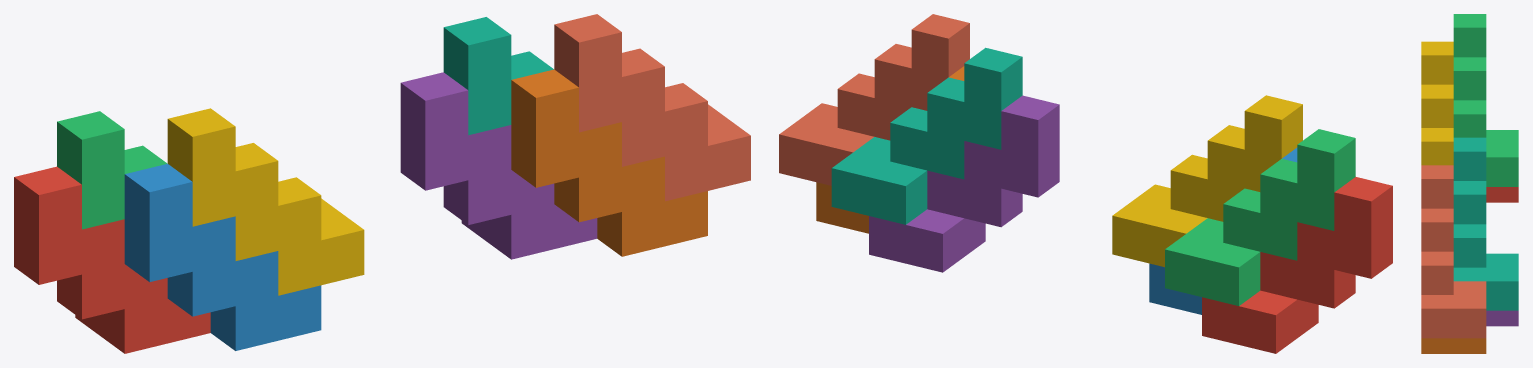
The model's file is tiling.obj.
3 renders of one model, left to right at view 1: azimuth 30°, elevation 25°; view 2: azimuth 150°, elevation 25°; view 3: azimuth 270°, elevation 25°, orthographic. The views are drawn at different scales.
Parts seen in each view (by area): view 1: copy_1_domain_2, copy_1_domain_6, copy_1_domain_4, copy_1_domain_8, copy_1_domain_5, copy_1_domain_1, copy_1_domain_7, copy_1_domain_3; view 2: copy_1_domain_7, copy_1_domain_3, copy_1_domain_1, copy_1_domain_5, copy_1_domain_8, copy_1_domain_4, copy_1_domain_6, copy_1_domain_2; view 3: copy_1_domain_8, copy_1_domain_7, copy_1_domain_3, copy_1_domain_4, copy_1_domain_6, copy_1_domain_5, copy_1_domain_1.
Boxes of the visible parts, box(x1,y1,x2,y2) form: copy_1_domain_2: box(124, 163, 321, 350); copy_1_domain_6: box(511, 69, 707, 256); copy_1_domain_4: box(167, 108, 364, 295); copy_1_domain_8: box(554, 14, 750, 201); copy_1_domain_5: box(400, 72, 597, 259); copy_1_domain_1: box(14, 166, 210, 353); copy_1_domain_7: box(443, 17, 553, 135); copy_1_domain_3: box(57, 111, 167, 229); copy_1_domain_7: box(831, 47, 1022, 224); copy_1_domain_3: box(1165, 129, 1355, 305); copy_1_domain_1: box(1202, 177, 1392, 353); copy_1_domain_5: box(869, 95, 1059, 272); copy_1_domain_8: box(779, 14, 969, 185); copy_1_domain_4: box(1112, 95, 1302, 267); copy_1_domain_6: box(816, 66, 964, 233); copy_1_domain_2: box(1149, 147, 1297, 314); copy_1_domain_8: box(1421, 165, 1486, 338); copy_1_domain_7: box(1453, 137, 1518, 310); copy_1_domain_3: box(1453, 14, 1518, 186); copy_1_domain_4: box(1421, 41, 1453, 165); copy_1_domain_6: box(1421, 338, 1486, 353); copy_1_domain_5: box(1486, 310, 1518, 326); copy_1_domain_1: box(1486, 187, 1518, 202).
Bounding box in the file's own units: 16 × 5 × 3.
